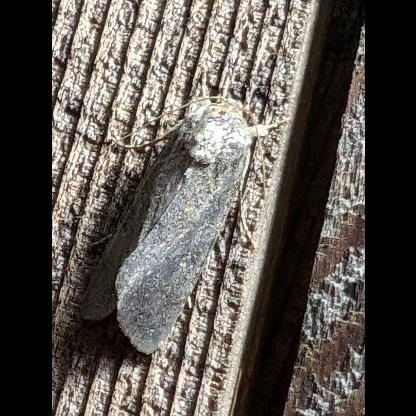Fall Armyworm Moth: (75, 93, 295, 358)
